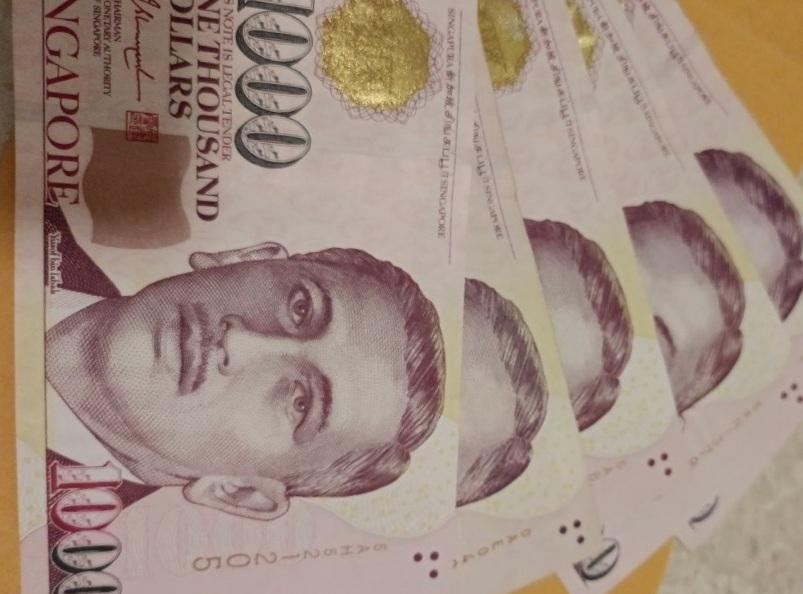1000SingaporeDollar: (29, 0, 463, 594)
